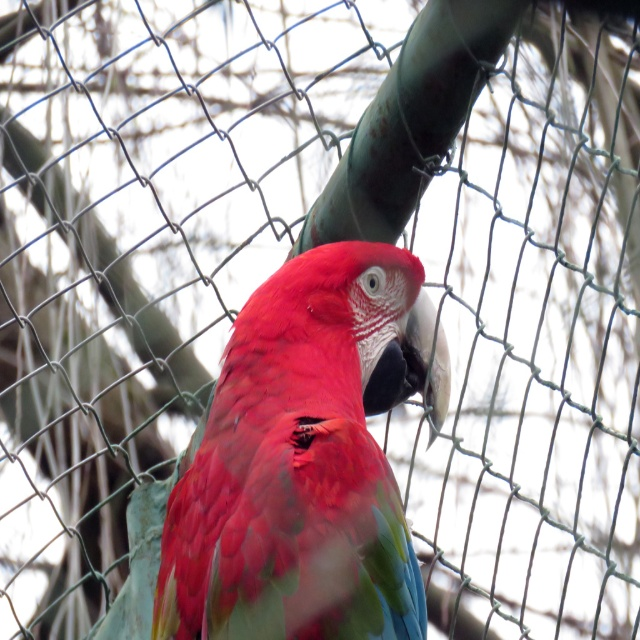Parrot: (152, 238, 452, 637)
